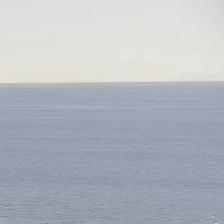surfer: (43, 222, 48, 224)
